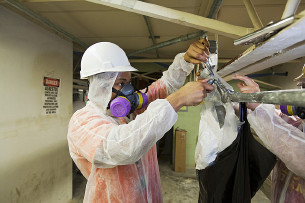face_mask: (98, 69, 129, 108)
